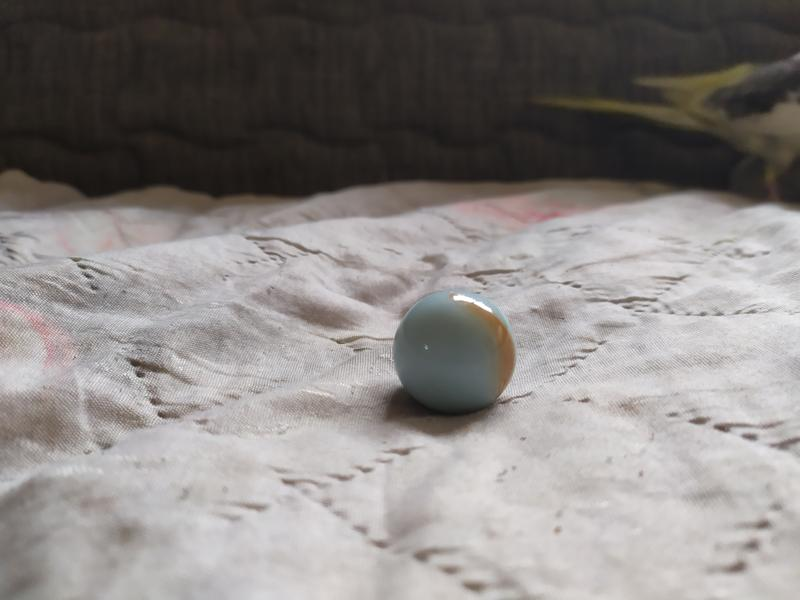Warning: (388, 284, 520, 419)
